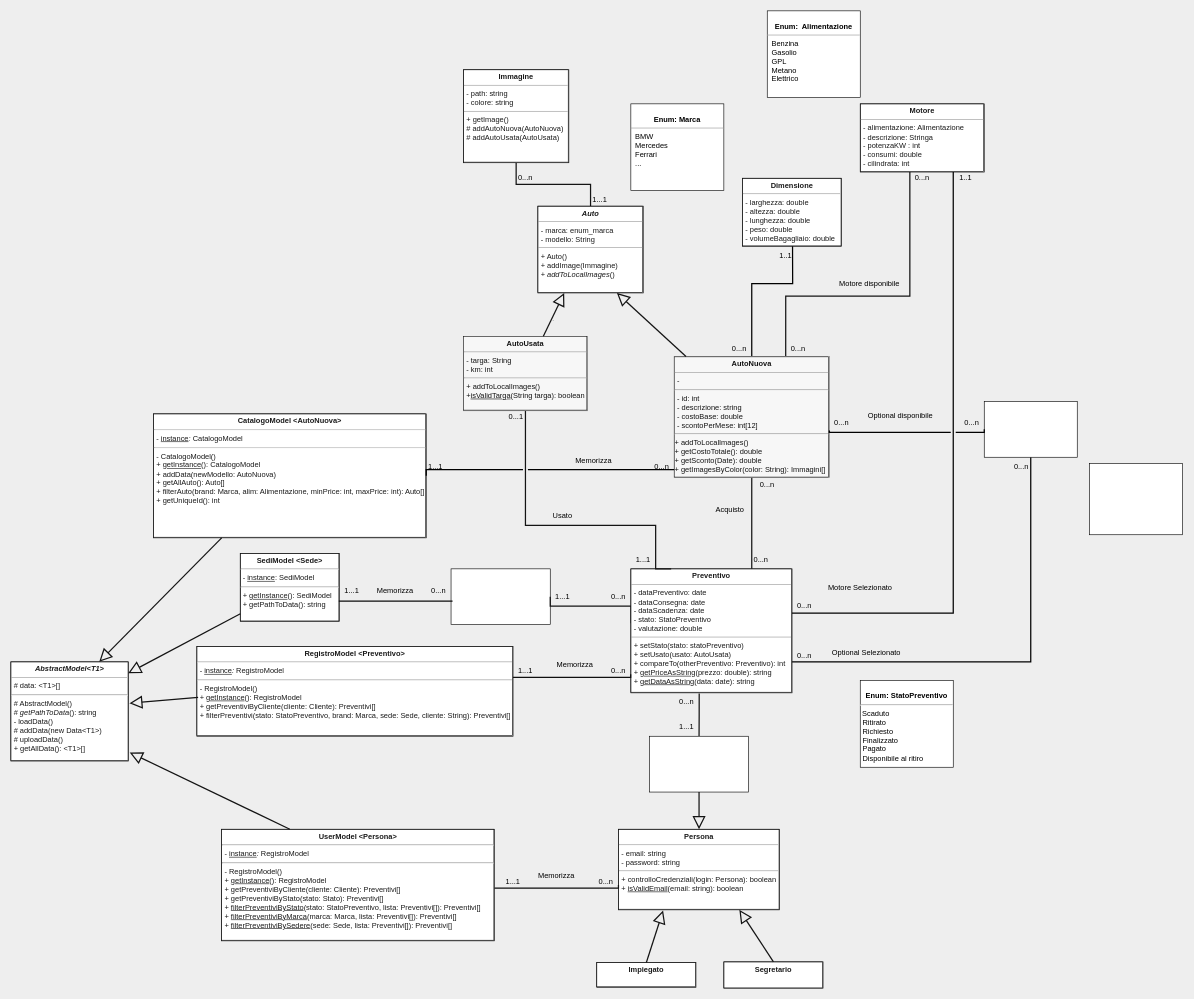
Some shapes in this 1194 by 999 pixel diagram are drawn without their labels. Here are the shapes that lost their labels. From the top down, the centre of each, then its label:
At point 1030,429: "Optional - categoria: TipoOptional - descrizione: string - costo: double".
At point 1136,499: "Enum:TipoOptional Colore Interni Vetri Cerchi".
At point 500,596: "Sede - nome: string - indirizzo: string + method(): Type".
At point 699,764: "Cliente - nome: string - cognome: string + method(): Type".
